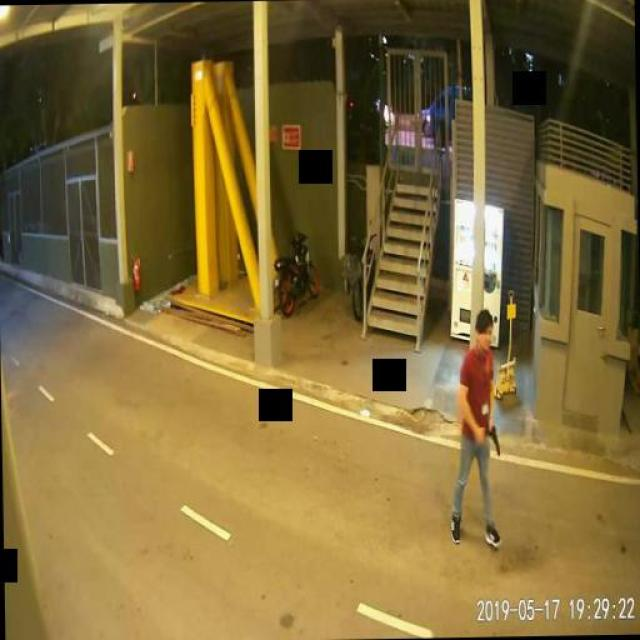gun: (488, 422, 498, 457)
